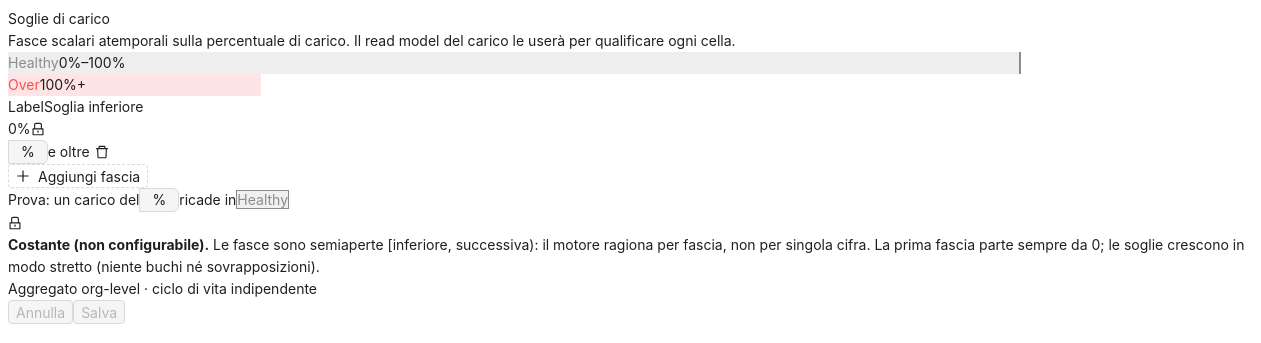
Scenario: <LoadBandCard> › adding a band with an empty label is dirty but invalid (save disabled)
Click the button "Aggiungi fascia": (78, 176) top-left (8, 164), bottom-right (148, 188)
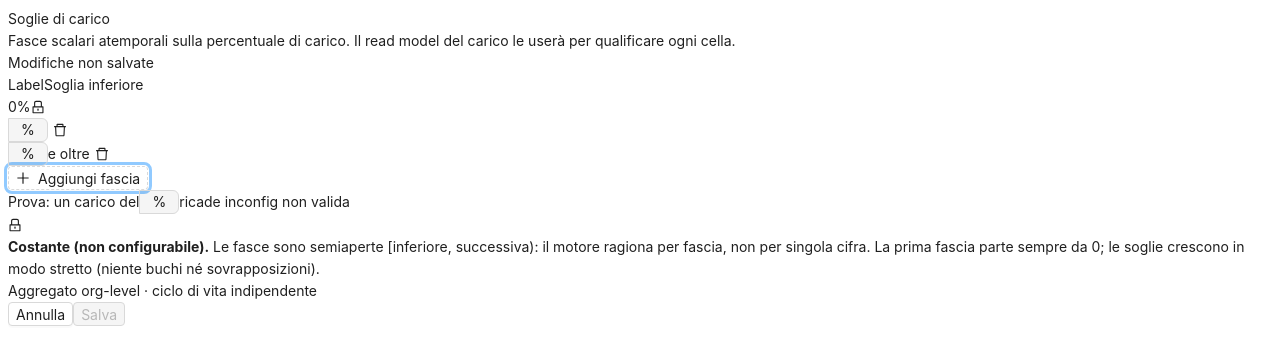
Expected: the button "Salva" is disabled, top-left (73, 302), bottom-right (125, 326)
Result: the text "Modifiche non salvate" is shown at top-left (8, 54), bottom-right (154, 71)
